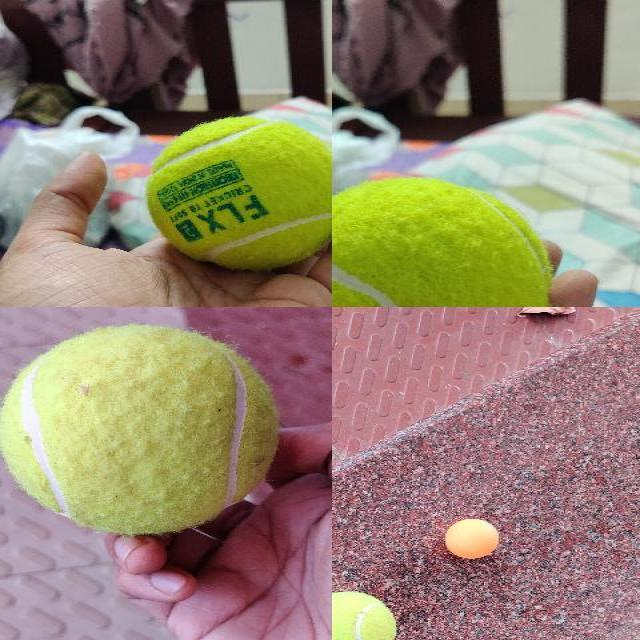tennis-ball: (0, 325, 280, 534), (332, 175, 554, 306), (145, 116, 331, 269), (332, 591, 398, 639)
